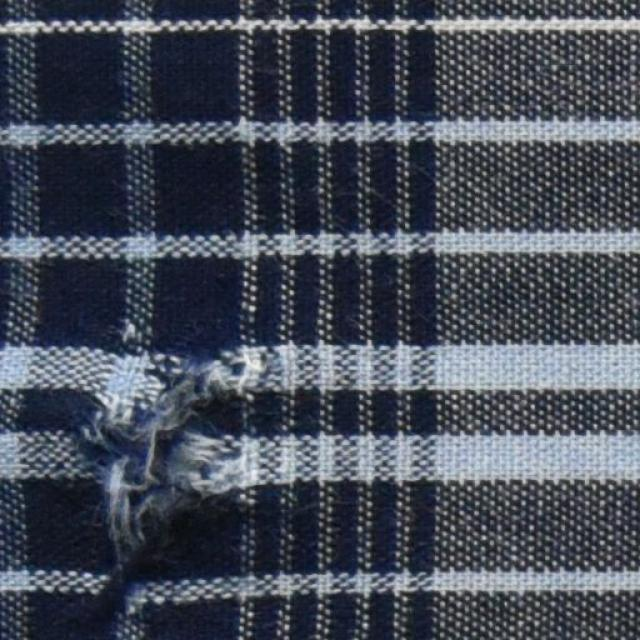Snag: (88, 329, 261, 598)
